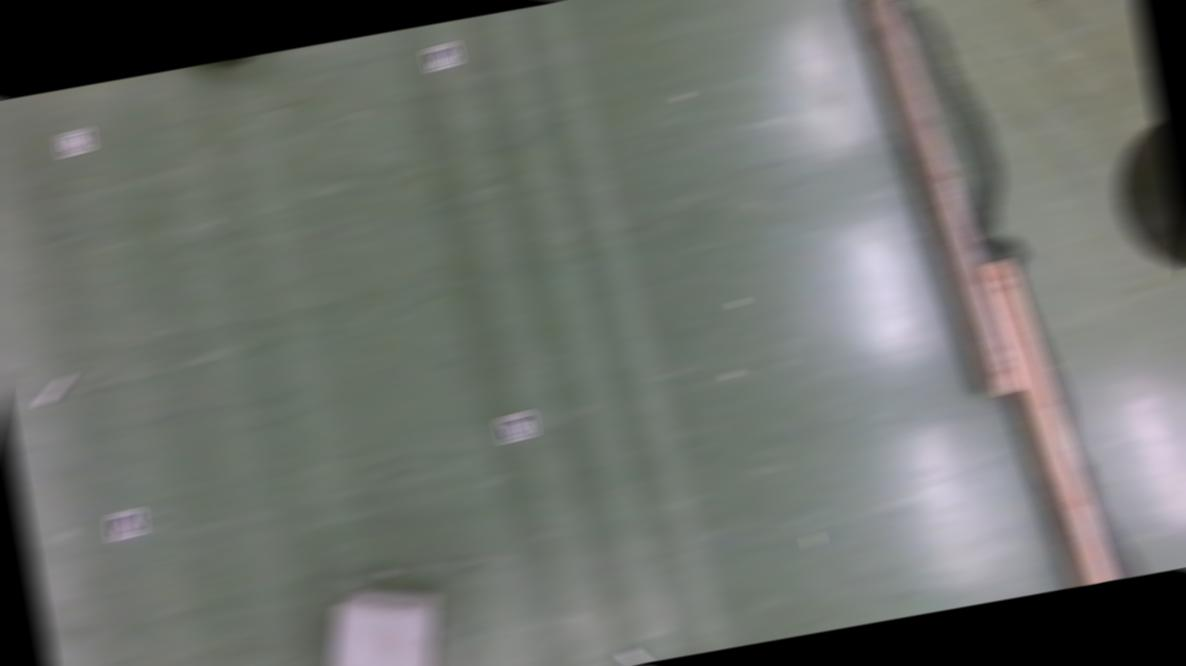probes: (35, 374, 76, 406), (620, 644, 658, 665)
rako: (299, 576, 458, 666)
